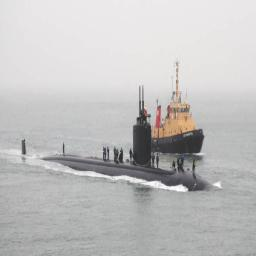submarine: (1, 85, 214, 193)
